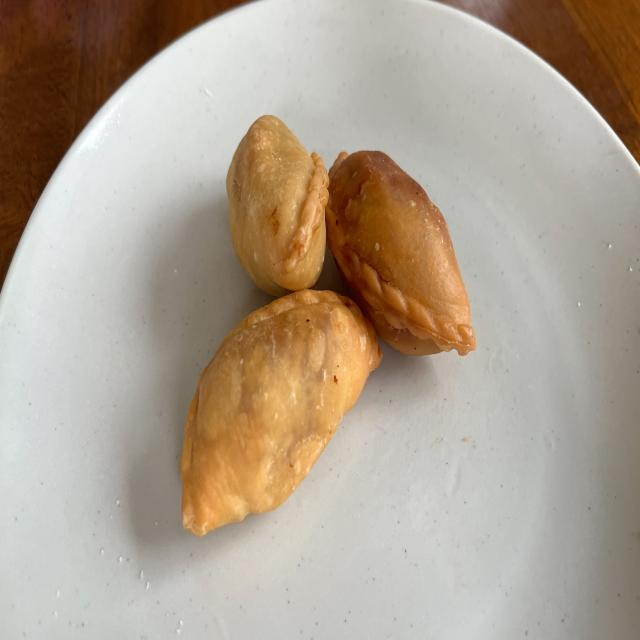karipap: (180, 289, 382, 536), (325, 151, 476, 356), (226, 116, 329, 296)
